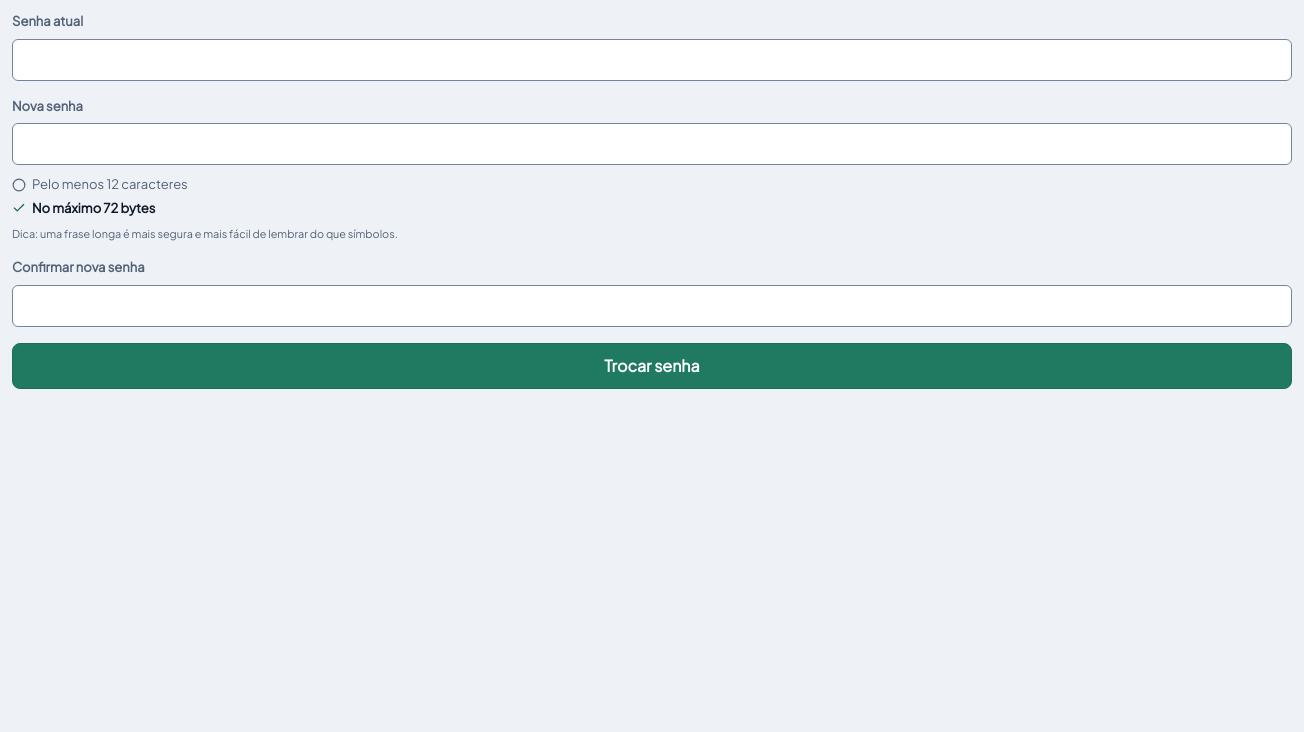
Test case: ChangePasswordForm › mostra todas as regras de senha fraca e a reutilizacao
Type "senha-antiga-123" into the password field labelled "Senha atual" at (652,60), box [12,38,1292,80]
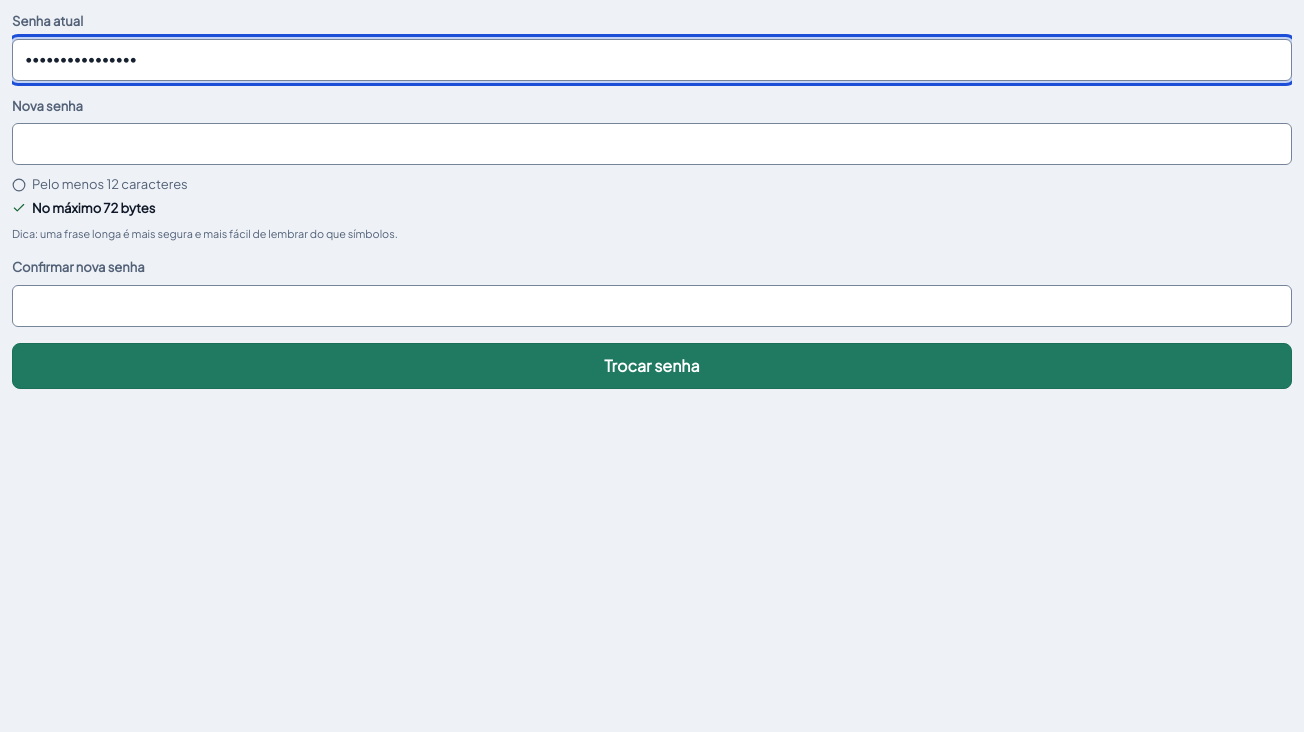
Type "cavalo azul come batata" into the password field labelled "Nova senha" at (652,144), box [12,123,1292,165]
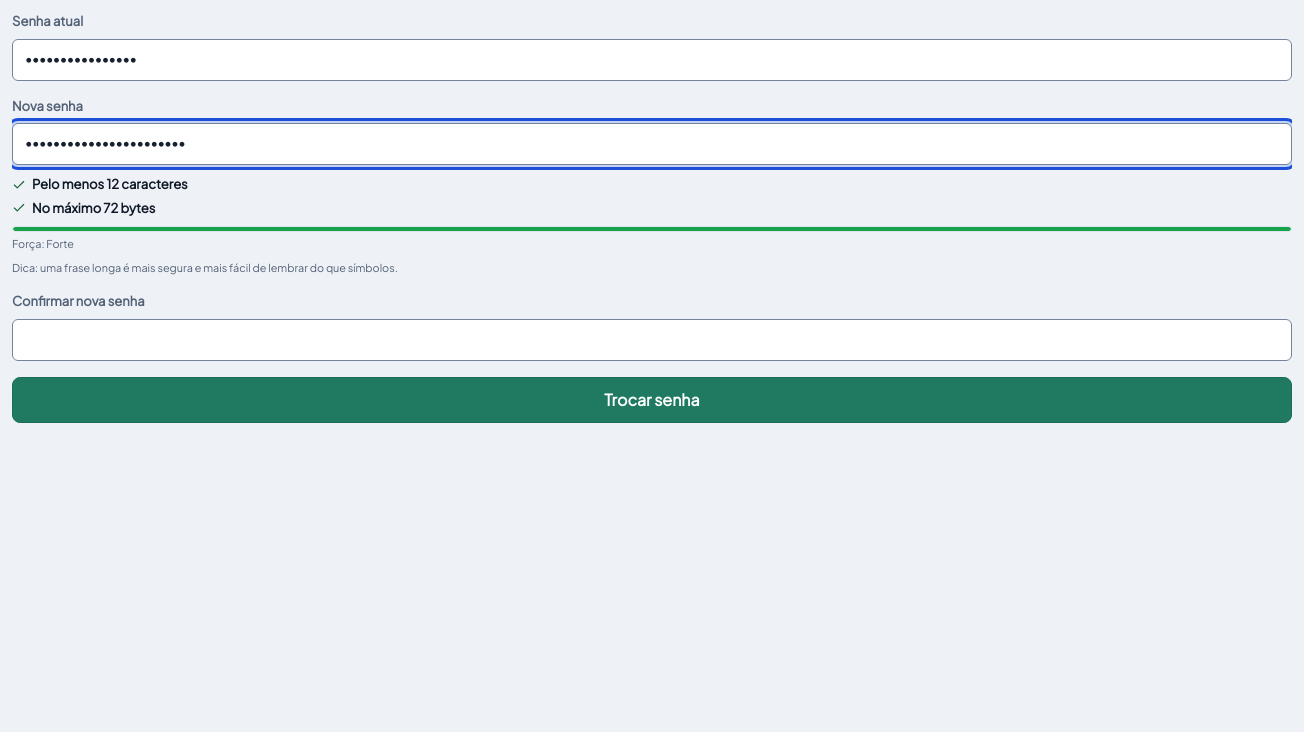
Type "cavalo azul come batata" into the password field labelled "Confirmar nova senha" at (652,340), box [12,319,1292,361]
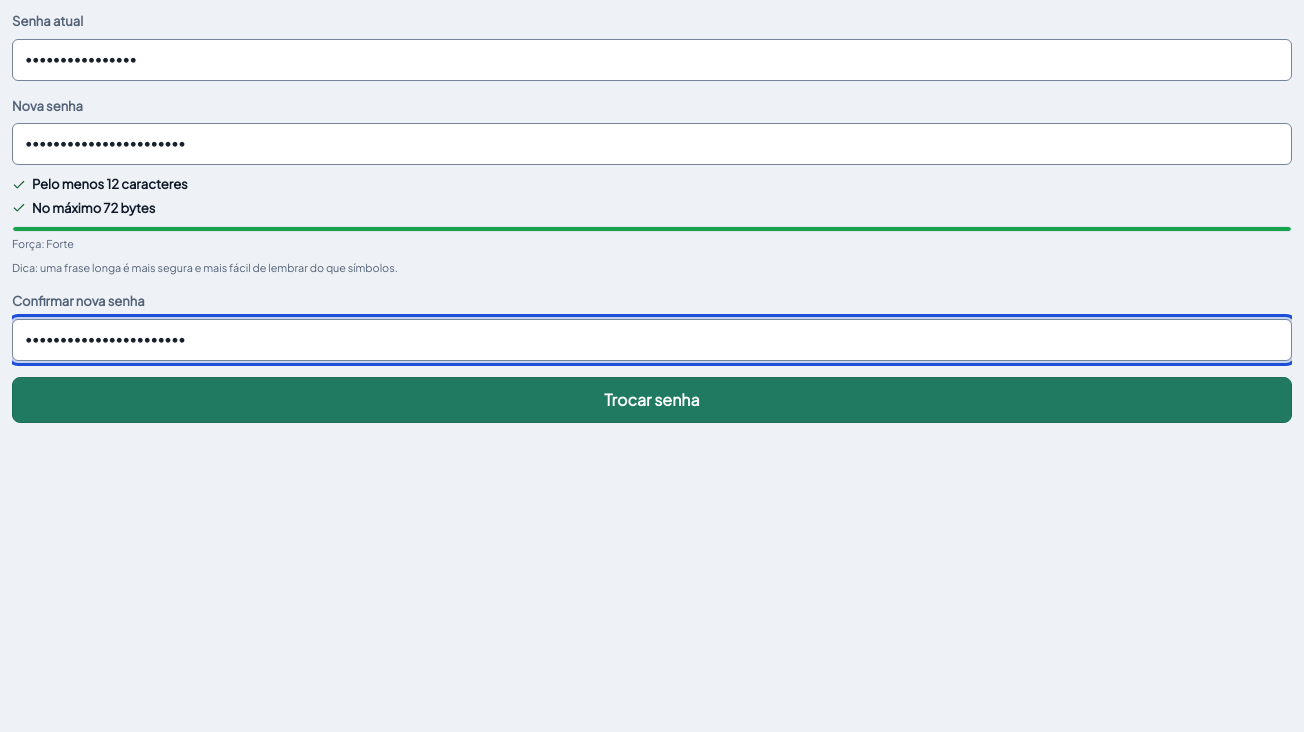
Click the button "Trocar senha" at (652,400), box [12,377,1292,423]
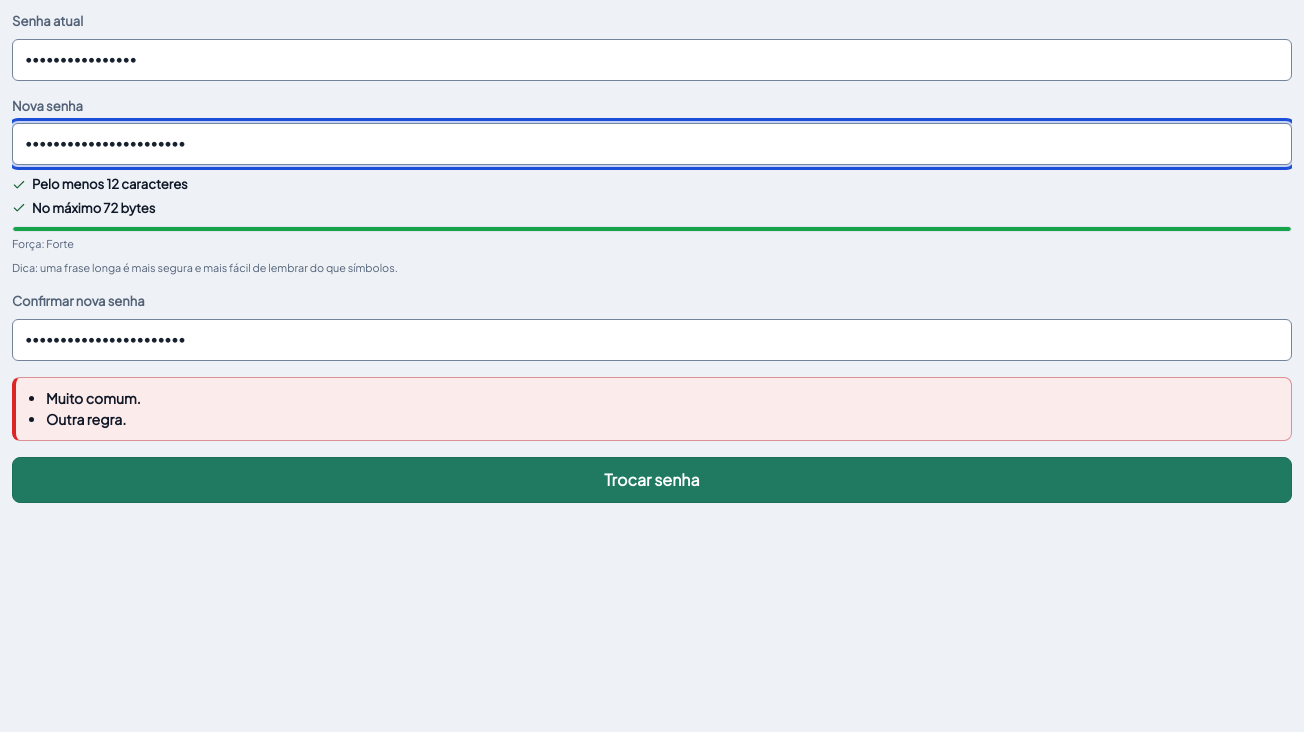
Check: the message shows "Muito comum.", box [46,389,141,407]
Check: the message shows "Outra regra.", box [46,410,126,428]
Click the button "Trocar senha" at (652,480), box [12,457,1292,503]
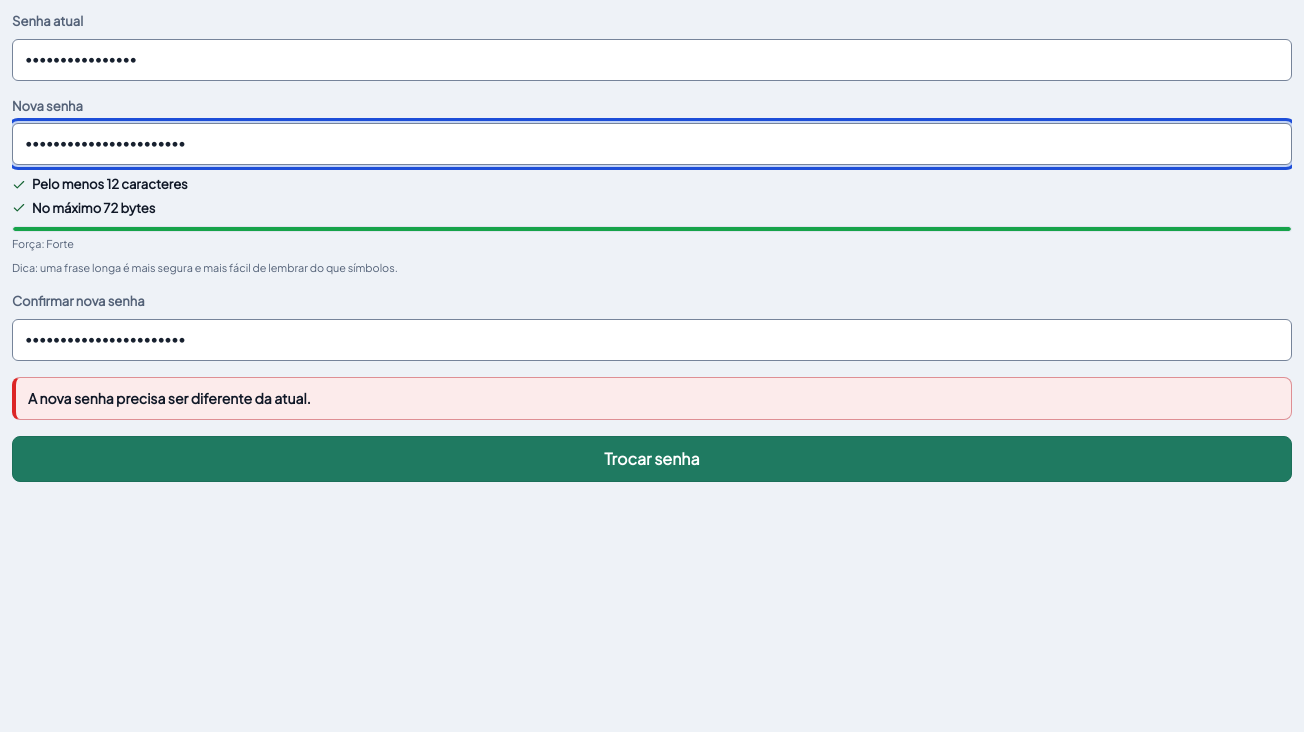
Check: the message shows "precisa ser diferente da atual", box [28,389,311,407]
